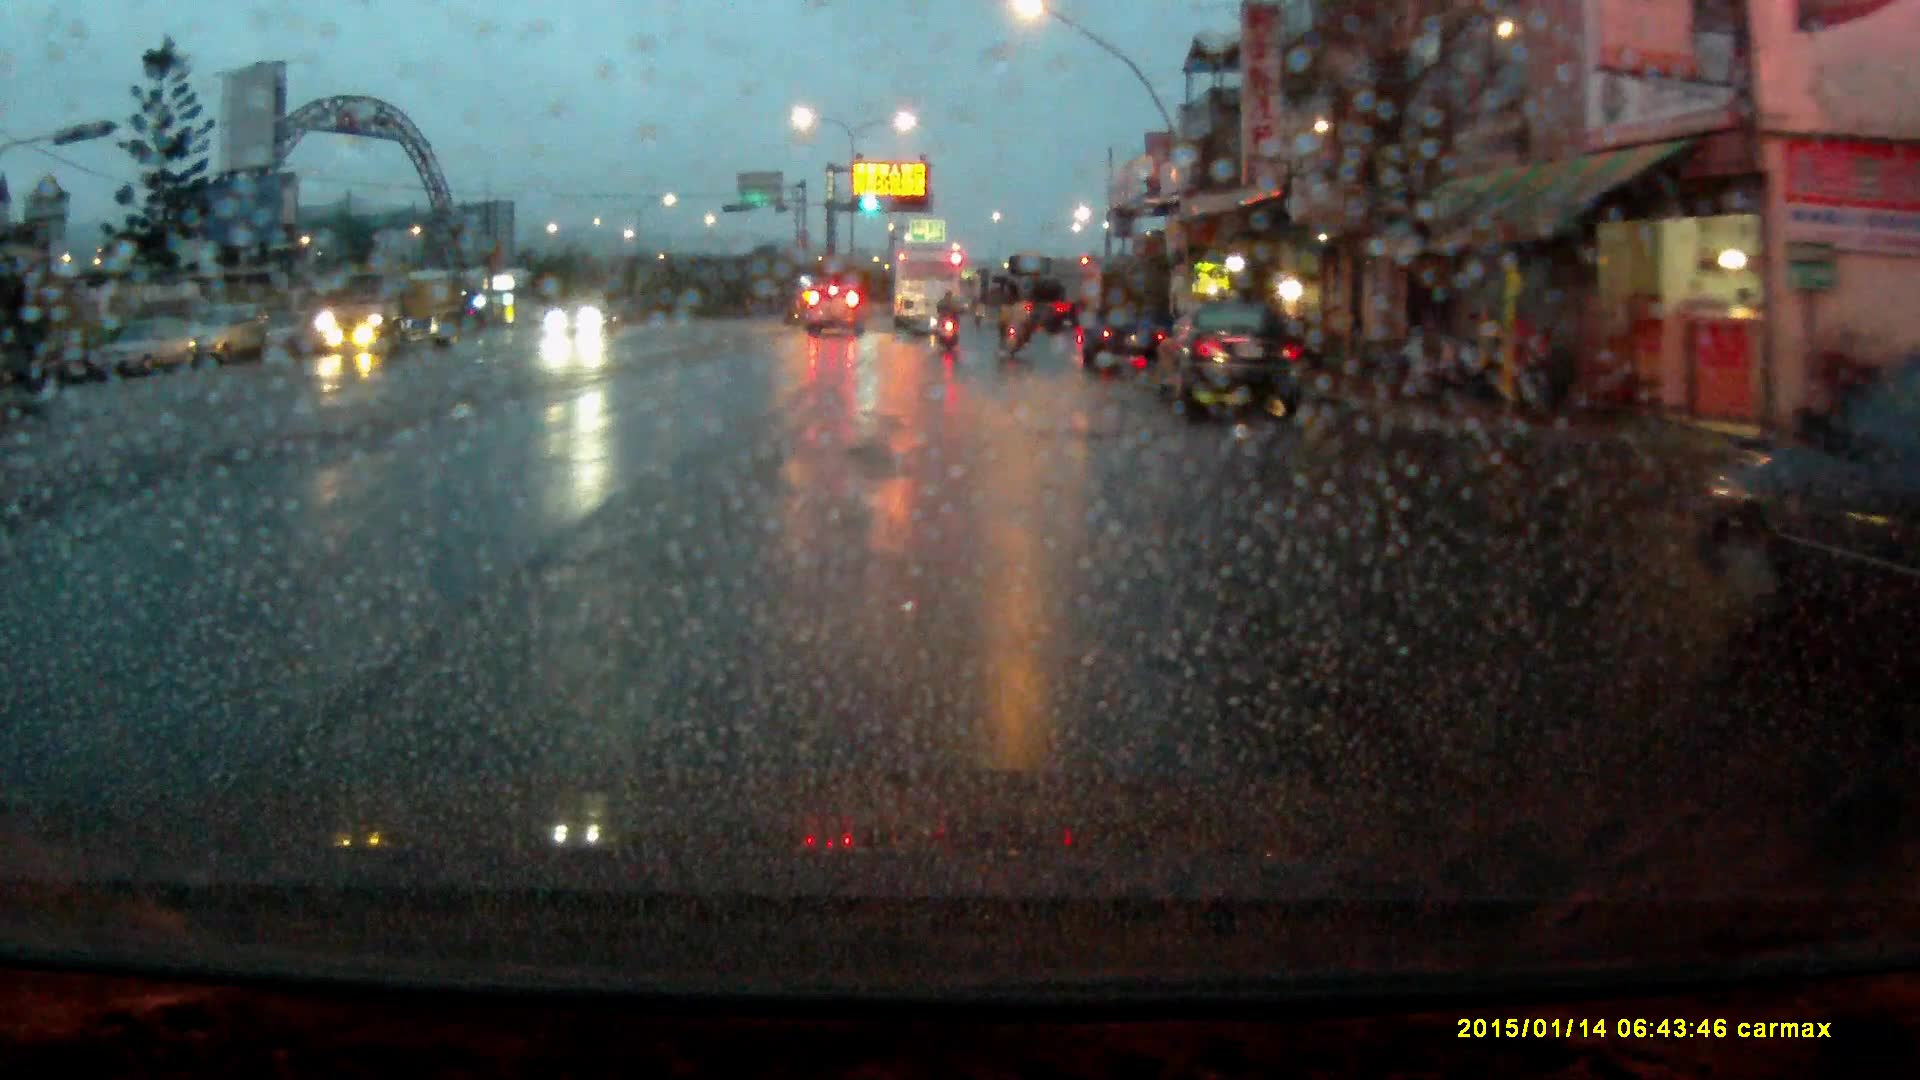rider: (993, 276, 1029, 359), (935, 285, 963, 350)
vehicle: (1682, 350, 1920, 628), (1156, 303, 1310, 425), (309, 263, 469, 351), (1077, 260, 1176, 366), (893, 247, 961, 335), (100, 319, 193, 380), (1006, 255, 1073, 338), (179, 302, 267, 362), (805, 278, 868, 337), (549, 296, 612, 337)
